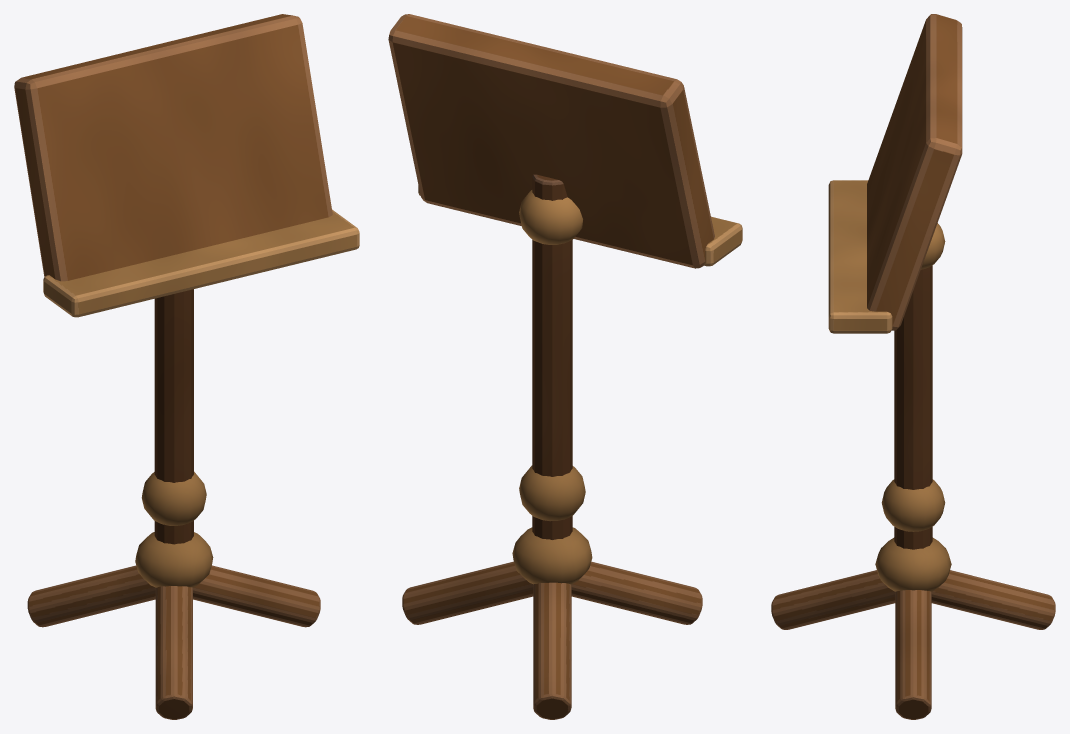
File: 13_Music_Stand.fbx
3 renders of one model, left to right at view 1: azimuth 30°, elevation 25°; view 2: azimuth 150°, elevation 25°; view 3: azimuth 270°, elevation 25°, orthographic. The views are drawn at different scales.
Parts seen in each view (by area): view 1: 13_Music_Stand; view 2: 13_Music_Stand; view 3: 13_Music_Stand.
Boxes of the visible parts, x1=… form: 13_Music_Stand: x1=14, y1=14, x2=359, y2=719; 13_Music_Stand: x1=388, y1=14, x2=742, y2=719; 13_Music_Stand: x1=771, y1=14, x2=1055, y2=719.
Size of the model in its own units: 76 by 152 by 67.04.
1 material, 1 textured.
